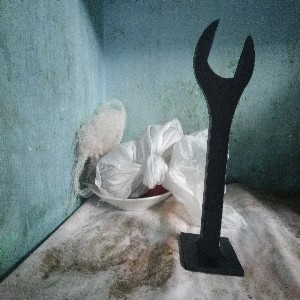spanner: (177, 16, 256, 278)
